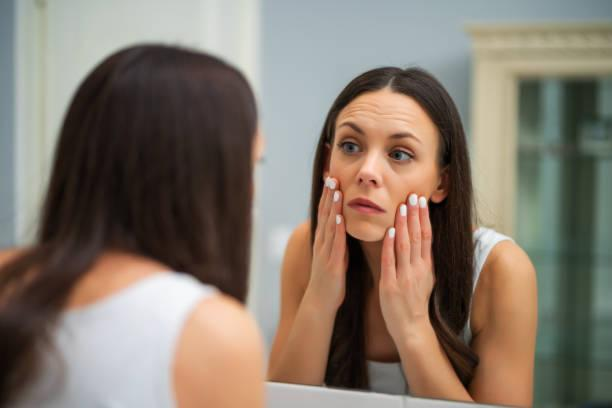Dry-Skin: (338, 98, 427, 134)
